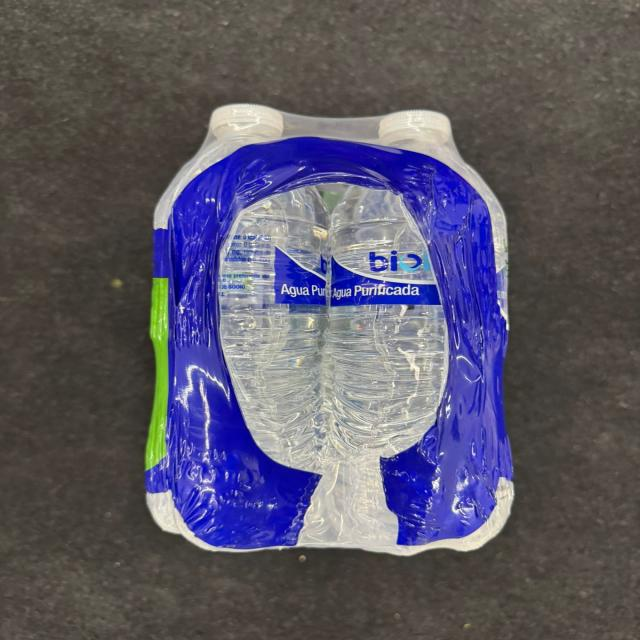Agua Bioleve 1L 6pack: (150, 100, 552, 559)
